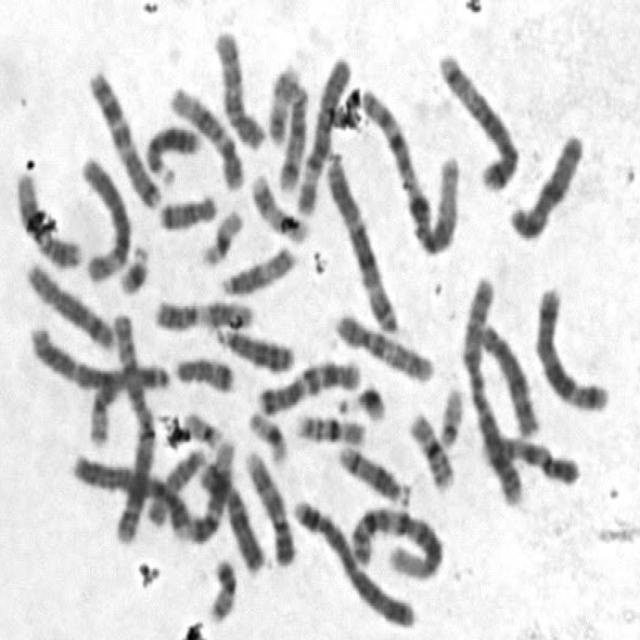A1: (356, 80, 460, 256), (345, 497, 446, 582)
A2: (456, 266, 526, 510), (106, 302, 158, 548)
A3: (320, 147, 401, 336), (23, 318, 171, 394)
B4: (288, 491, 418, 631), (65, 446, 192, 538)
B5: (432, 43, 523, 195), (530, 278, 613, 414)
C10: (328, 304, 436, 384), (210, 21, 269, 152)
C11: (85, 355, 170, 449), (149, 290, 259, 332)
C12: (165, 78, 247, 192), (184, 432, 238, 546)
C6: (292, 51, 355, 218), (74, 147, 136, 286)
C7: (82, 60, 165, 212), (253, 352, 364, 417)
C8: (20, 254, 117, 353), (472, 318, 542, 439)
C9: (240, 443, 296, 569), (476, 427, 582, 488)
D13: (213, 319, 297, 374), (141, 117, 204, 185)
D14: (334, 436, 414, 508), (274, 75, 312, 194)
D15: (141, 442, 208, 529), (216, 240, 298, 297)
E16: (404, 404, 458, 492), (291, 405, 369, 446)
E17: (246, 167, 312, 245), (262, 58, 300, 148)
E18: (168, 347, 238, 396), (156, 186, 220, 232)
F19: (196, 201, 246, 269), (243, 404, 290, 467)
F20: (203, 551, 240, 624), (85, 375, 117, 448)
G21: (338, 377, 387, 424), (114, 237, 152, 297)
G22: (434, 378, 466, 449), (179, 405, 225, 449)
X: (504, 126, 587, 244), (195, 454, 268, 575)
